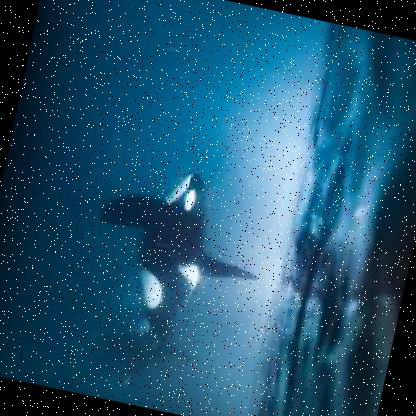killer_whale: (45, 131, 260, 380)
